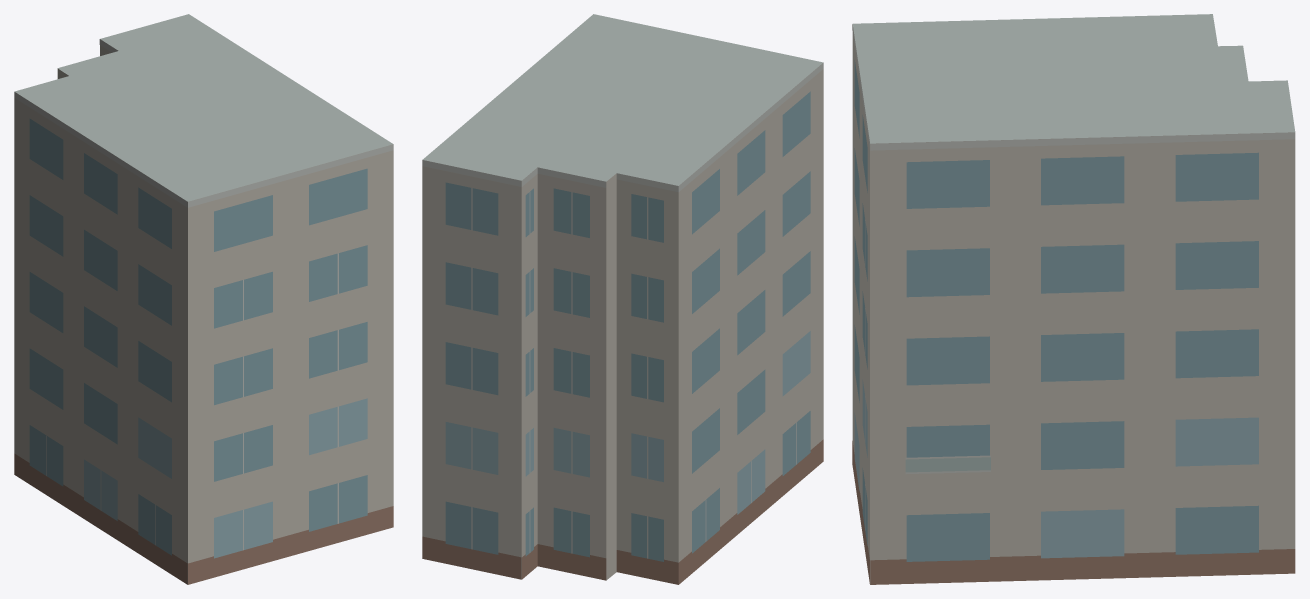
The model's file is survey-upis-32937997.glb.
The picture shows the model from 3 angles, left to right: view 1: azimuth 30°, elevation 25°; view 2: azimuth 150°, elevation 25°; view 3: azimuth 270°, elevation 25°; orthographic projection. The views are drawn at different scales.
Visible parts, largest first — view 1: survey-upis-32937997.tmp; view 2: survey-upis-32937997.tmp; view 3: survey-upis-32937997.tmp.
Part boxes in pixels (x1,y1,x2,y2): survey-upis-32937997.tmp: [14, 14, 393, 584]; survey-upis-32937997.tmp: [422, 14, 823, 584]; survey-upis-32937997.tmp: [852, 14, 1295, 584].
Bounding box in the file's own units: 9.77 × 15.5 × 14.11.
